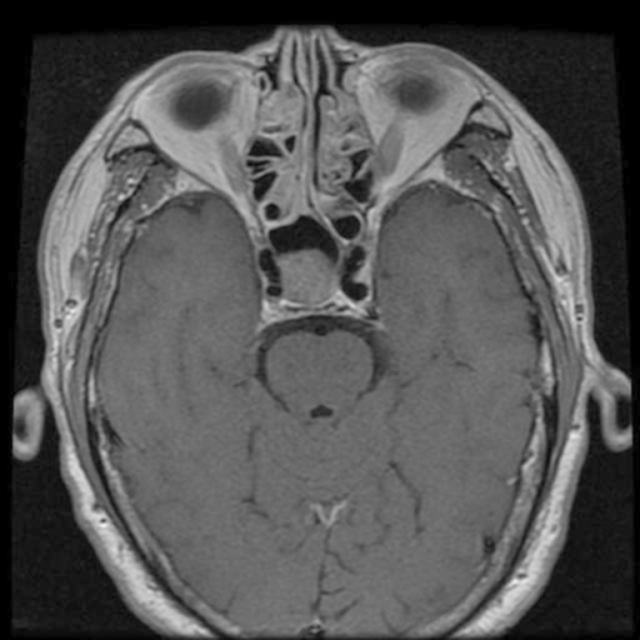no tumor: (276, 242, 340, 306)
